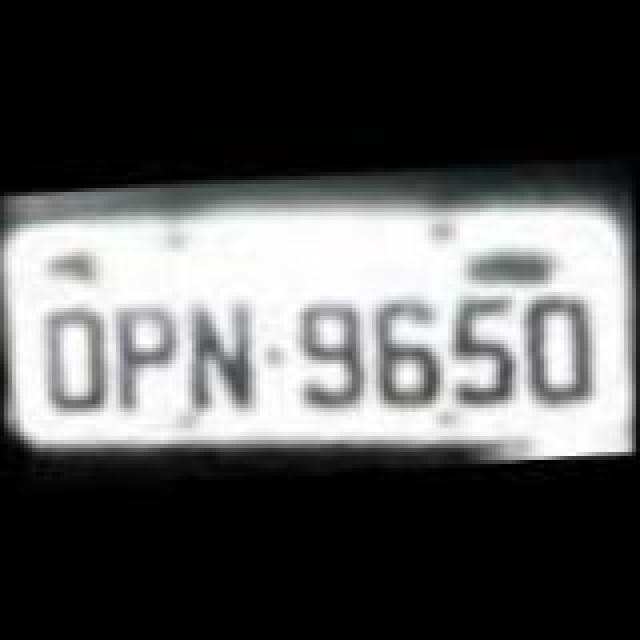5: (448, 290, 524, 406)
6: (364, 286, 448, 410)
9: (286, 292, 374, 416)
N: (180, 294, 264, 410)
O: (514, 282, 602, 406), (42, 304, 114, 416)
P: (108, 300, 184, 412)
